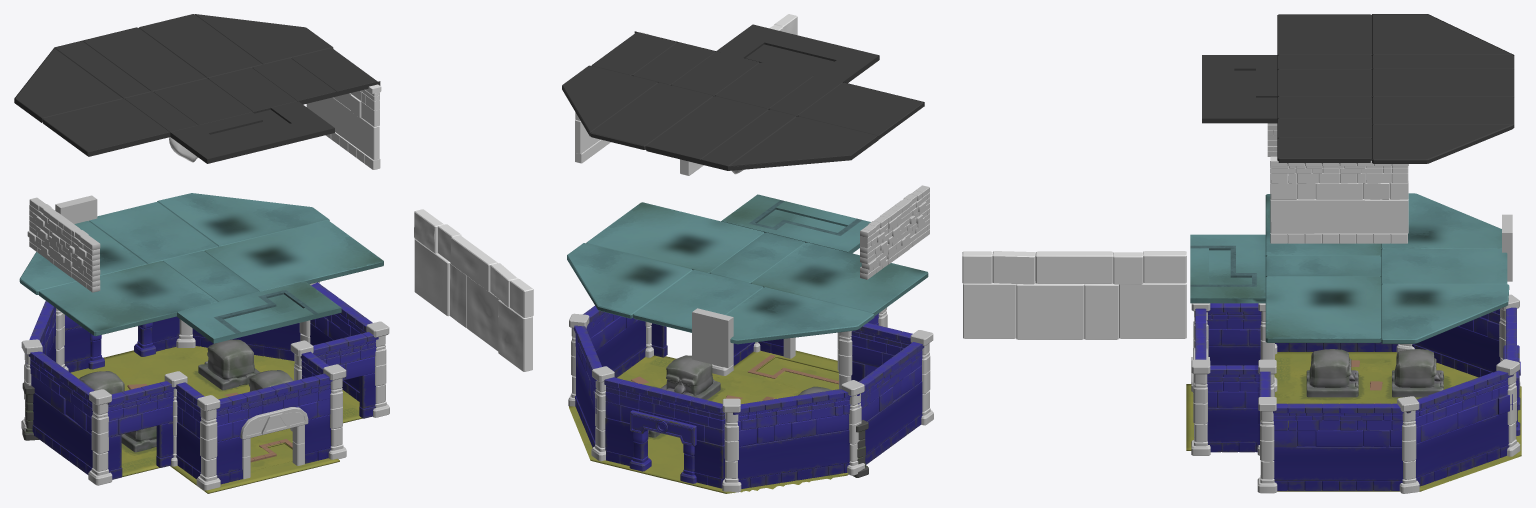
Rendered from Updated_Whole_Room.fbx.
3 renders of one model, left to right at view 1: azimuth 30°, elevation 25°; view 2: azimuth 150°, elevation 25°; view 3: azimuth 270°, elevation 25°, orthographic. The views are drawn at different scales.
Parts seen in each view (by area): view 1: Floor.016, Cube.048, Plane.001, Floor.001, Paneled_Main_Entrance_Var1, Paneled_LongWall_Var3, Floor.003, Paneled_Side_Entrance_Var1, Floor.010, OLD_Backup_Wall, Floor.011, Floor.008 (+29 smaller); view 2: Floor.016, Paneled_LongWall_Var4, Plane.001, Paneled_Main_Entrance_Var2, Floor.001, Paneled_LongWall_Var3, Floor.010, Floor.011, Floor.003, Floor.008, OLD_Backup_Wall, Floor.012 (+23 smaller); view 3: Floor.016, Cube.048, Bigger Brick LP.042, Paneled_LongWall_Var1, Paneled_LongWall_Var2, Plane.001, Floor.001, Paneled_SmallWall_Var2.001, Floor.012, Floor.010, Floor.011, Floor.008 (+18 smaller).
Boxes of the visible parts, x1,y1,x2,y2 form: Floor.016: (19,193,383,343); Cube.048: (414,209,533,371); Plane.001: (70,346,362,493); Floor.001: (14,27,380,163); Paneled_Main_Entrance_Var1: (216,373,332,484); Paneled_LongWall_Var3: (28,351,94,474); Floor.003: (42,99,169,155); Paneled_Side_Entrance_Var1: (107,381,175,479); Floor.010: (15,48,122,122); OLD_Backup_Wall: (27,197,100,292); Floor.011: (139,14,262,78); Floor.008: (83,27,206,91); Floor.016: (567,194,928,344); Paneled_LongWall_Var4: (733,389,859,488); Plane.001: (569,350,848,493); Paneled_Main_Entrance_Var2: (604,377,725,488); Floor.001: (634,24,924,170); Paneled_LongWall_Var3: (859,342,924,464); Floor.010: (729,116,877,170); Floor.011: (590,82,712,149); Floor.003: (798,82,923,139); Floor.008: (645,96,768,162); OLD_Backup_Wall: (860,185,929,279); Floor.012: (562,65,657,135); Floor.016: (1190,193,1509,343); Cube.048: (962,251,1186,339); Bigger Brick LP.042: (1270,156,1408,243); Paneled_LongWall_Var1: (1273,403,1403,490); Paneled_LongWall_Var2: (1406,370,1513,486); Plane.001: (1186,351,1521,491); Floor.001: (1202,14,1514,123); Paneled_SmallWall_Var2.001: (1207,365,1260,452); Floor.012: (1372,124,1513,163); Floor.010: (1372,14,1512,55); Floor.011: (1372,97,1514,128); Floor.008: (1372,69,1514,97).
Size of what is drawn, in the model's own units: 3261 by 3485 by 5197.
